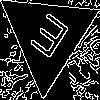E: (22, 11, 71, 68)
